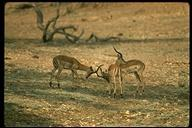antelope: (49, 55, 105, 92), (112, 47, 146, 94), (94, 63, 125, 100)
tree: (13, 2, 121, 43)
